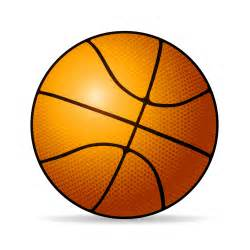basketball: (29, 29, 220, 220)
